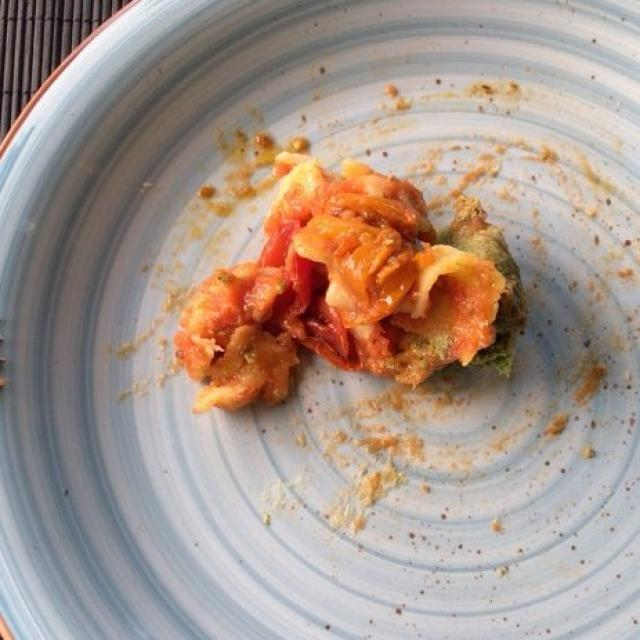tomato-cooked: (236, 221, 470, 403)
